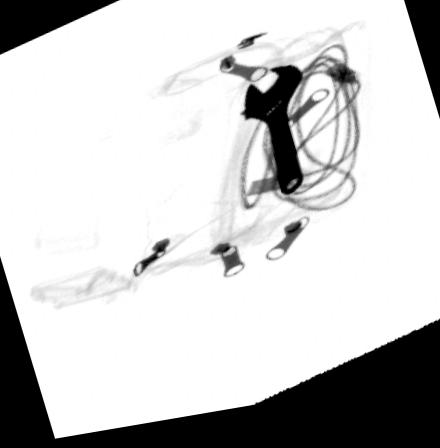Wrench: (244, 73, 306, 206)
